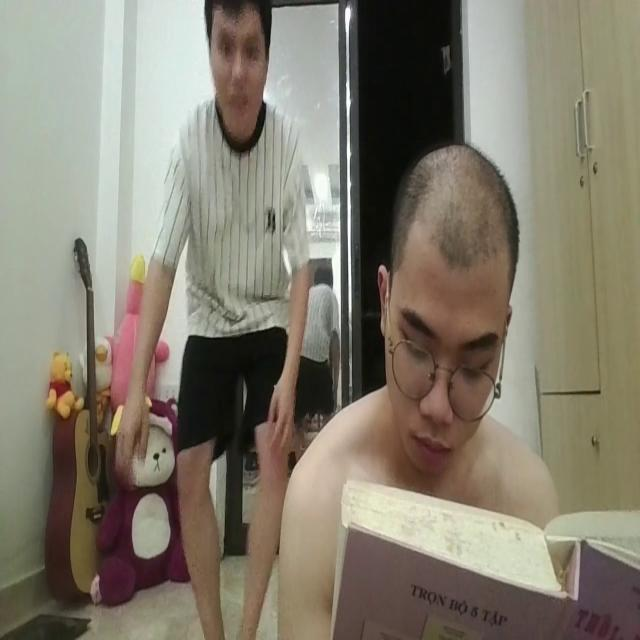book: (333, 466, 640, 640)
extra_person: (114, 0, 318, 640)
student: (280, 128, 565, 640)
